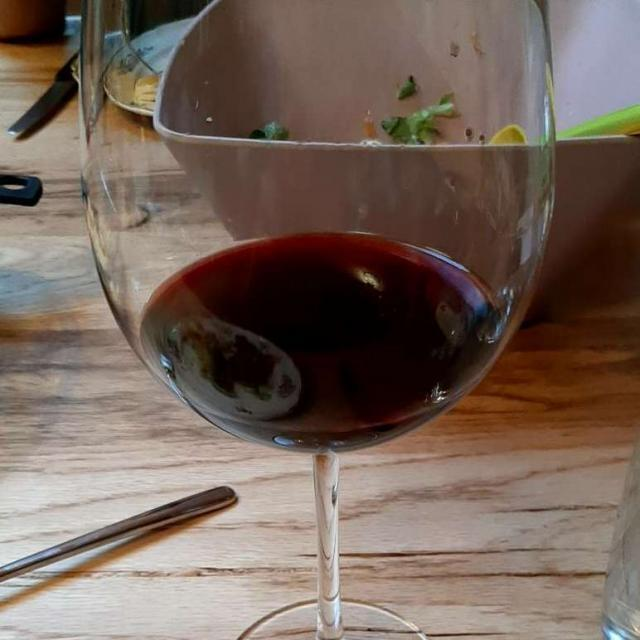wine: (188, 242, 494, 440)
